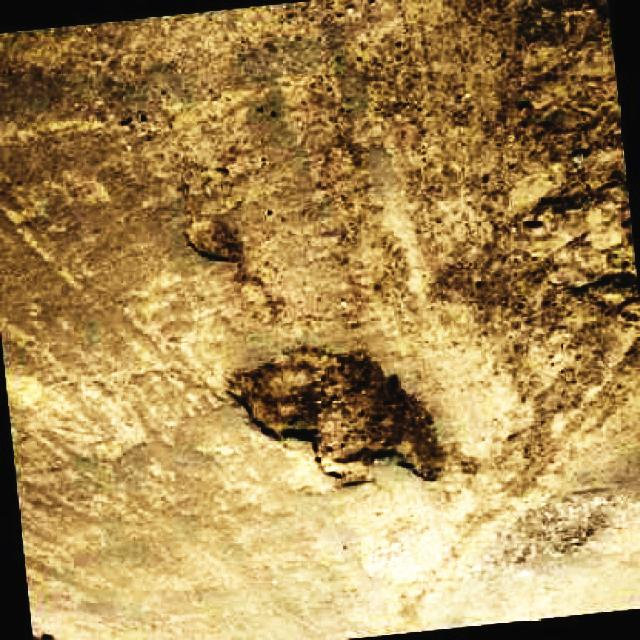pothole: (224, 335, 456, 488), (500, 482, 638, 582), (183, 209, 260, 268)
